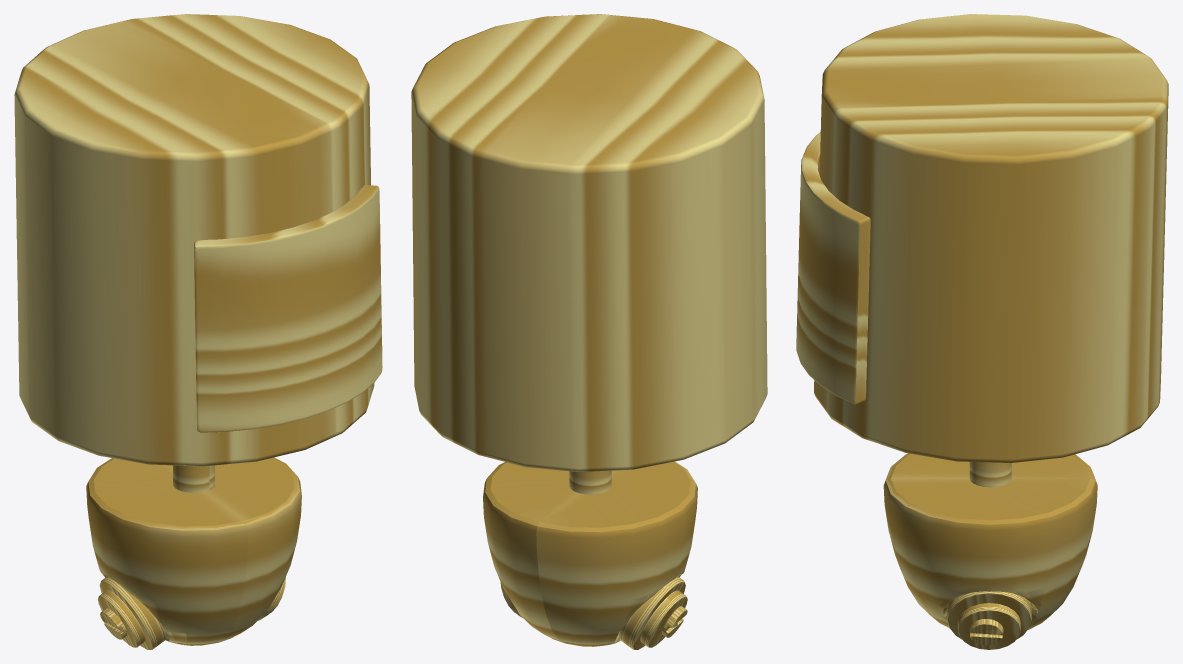
The model's file is body.obj.
3 renders of one model, left to right at view 1: azimuth 30°, elevation 25°; view 2: azimuth 150°, elevation 25°; view 3: azimuth 270°, elevation 25°, orthographic.
Visible parts, largest first — view 1: Blake_main_body_main_body, Blake_main_body_body_gaurd, Blake_waist_waist, Blake_waist_waist_right_connector_1, Blake_spline_1_splines, Blake_waist_waist_right_connector_2; view 2: Blake_main_body_main_body, Blake_waist_waist, Blake_waist_waist_right_connector_1, Blake_waist_waist_right_connector_2, Blake_spline_1_splines; view 3: Blake_main_body_main_body, Blake_waist_waist, Blake_main_body_body_gaurd, Blake_waist_waist_left_connector_2, Blake_waist_waist_left_connector_1, Blake_spline_1_splines, Blake_waist_waist_left_screw.
Boxes of the visible parts, left/top/right/bottom form: Blake_main_body_main_body: left=14, top=14, right=374, bottom=466; Blake_main_body_body_gaurd: left=194, top=185, right=382, bottom=432; Blake_waist_waist: left=86, top=457, right=301, bottom=645; Blake_waist_waist_right_connector_1: left=99, top=576, right=166, bottom=649; Blake_spline_1_splines: left=173, top=465, right=214, bottom=492; Blake_waist_waist_right_connector_2: left=98, top=590, right=145, bottom=647; Blake_main_body_main_body: left=411, top=14, right=767, bottom=471; Blake_waist_waist: left=483, top=461, right=697, bottom=646; Blake_waist_waist_right_connector_1: left=619, top=576, right=685, bottom=649; Blake_waist_waist_right_connector_2: left=640, top=590, right=687, bottom=647; Blake_spline_1_splines: left=569, top=470, right=611, bottom=494; Blake_main_body_main_body: left=814, top=14, right=1168, bottom=462; Blake_waist_waist: left=883, top=453, right=1097, bottom=629; Blake_main_body_body_gaurd: left=796, top=132, right=870, bottom=404; Blake_waist_waist_left_connector_2: left=957, top=603, right=1020, bottom=649; Blake_waist_waist_left_connector_1: left=947, top=591, right=1031, bottom=639; Blake_spline_1_splines: left=969, top=462, right=1011, bottom=487; Blake_waist_waist_left_screw: left=969, top=619, right=1003, bottom=645.
Size of the model in its own units: 2.6 by 4.52 by 2.78.
